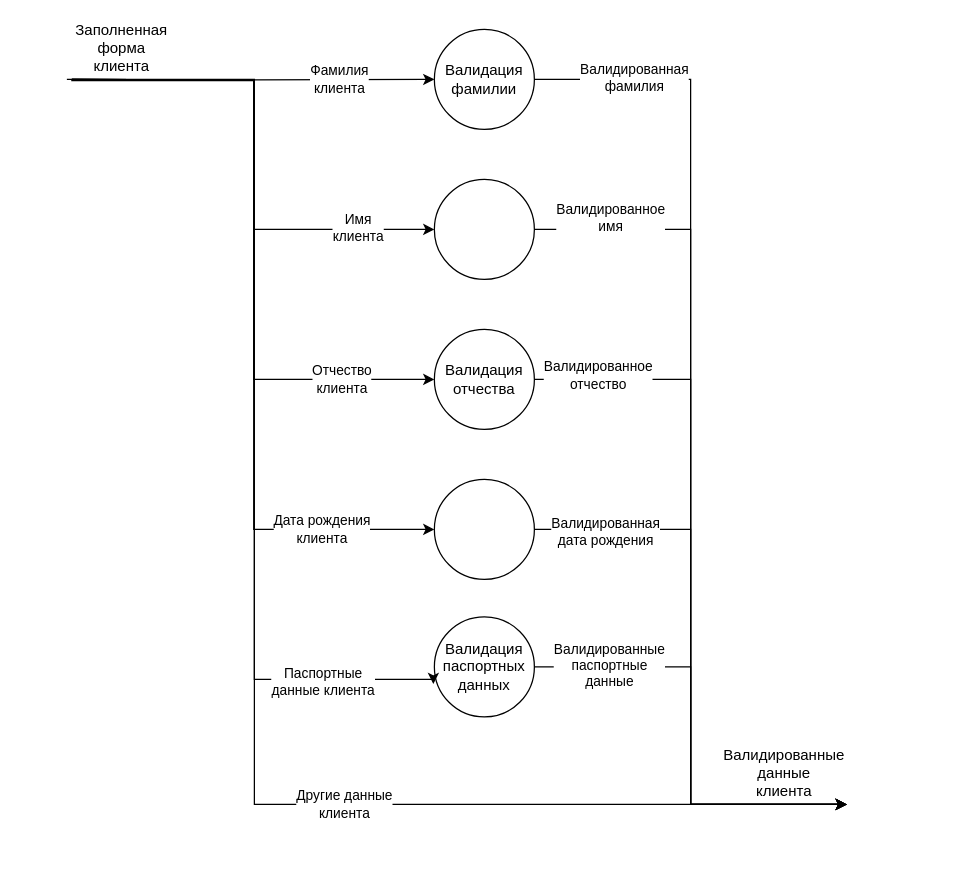
Some shapes in this 968 by 876 pixel diagram are drawn without their labels. The centre of each missing label's shape, as x and y in pixels:
"Валидация даты рождения" belongs at (483,528).
"Валидация имени" belongs at (483,228).
